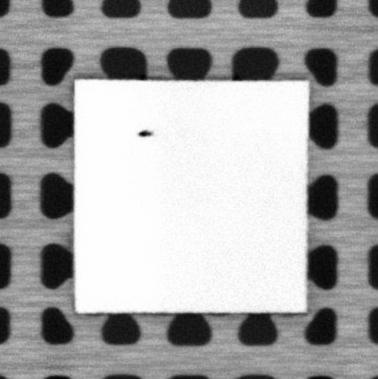DIE_INK: (136, 126, 153, 138)
